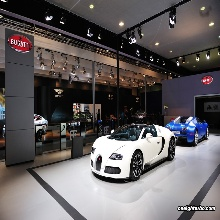no damage: (91, 121, 177, 183), (170, 114, 210, 146)
